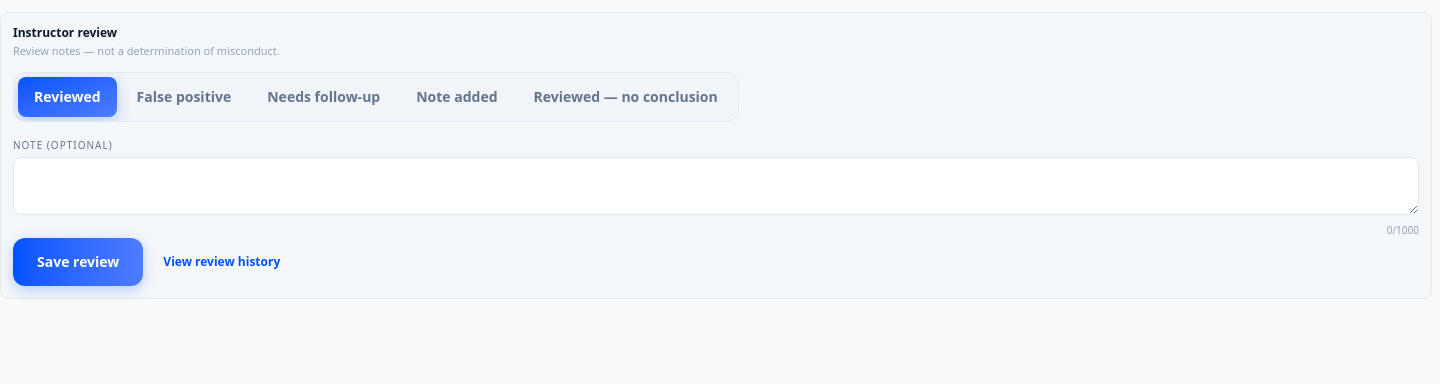
Scenario: AlertReviewForm conflict (409) and failure states › surfaces the server message (with current version) and a retry affordance
The image size is (1440, 384).
Later steps or results of the test are not shown.
Click the button "Save review".
click(78, 262)  # box 13,238 -> 143,286
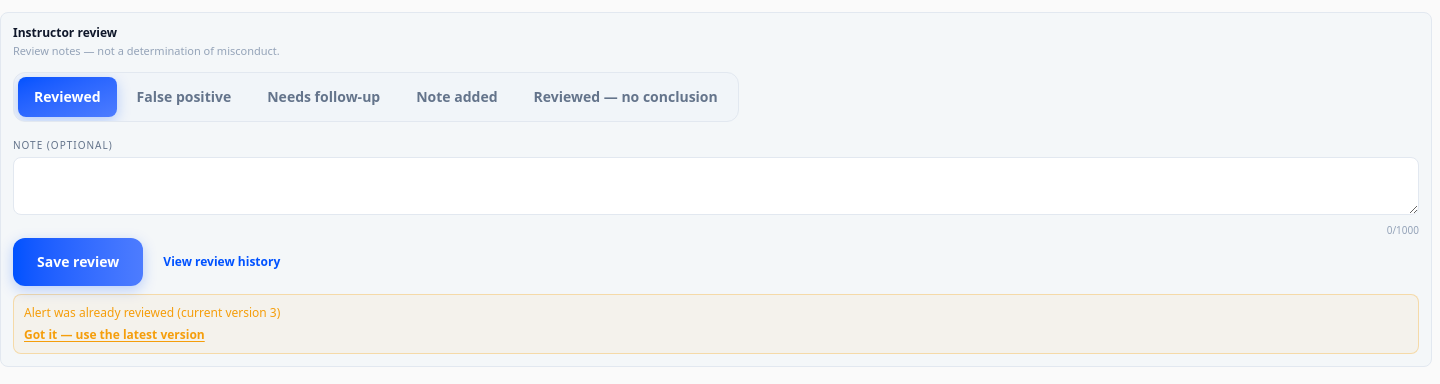
Now the text "Alert was already reviewed (current version 3)" is shown, box 24,304 -> 280,320
Click the button "Got it — use the latest version".
click(114, 334)  # box 24,326 -> 205,342
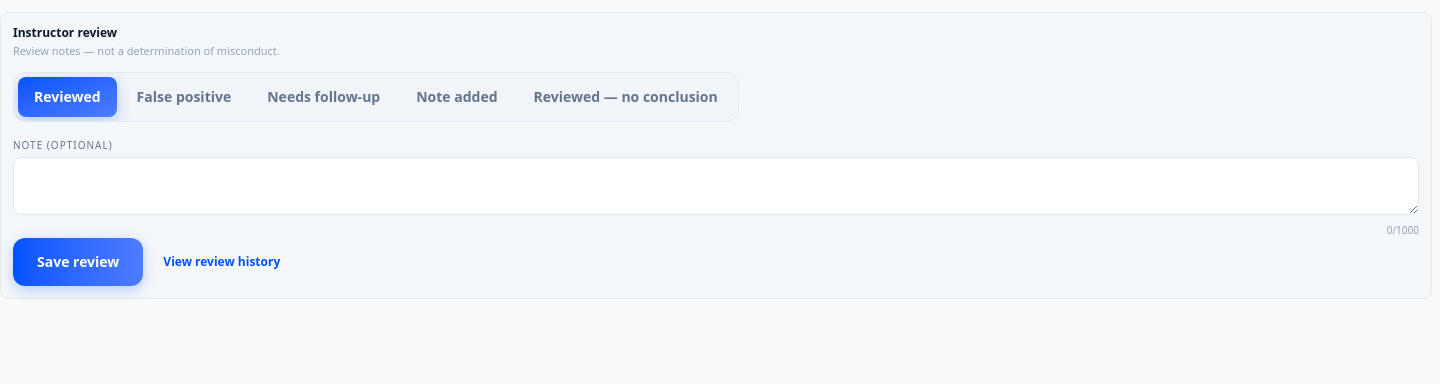
Now the text "current version 3" is gone
